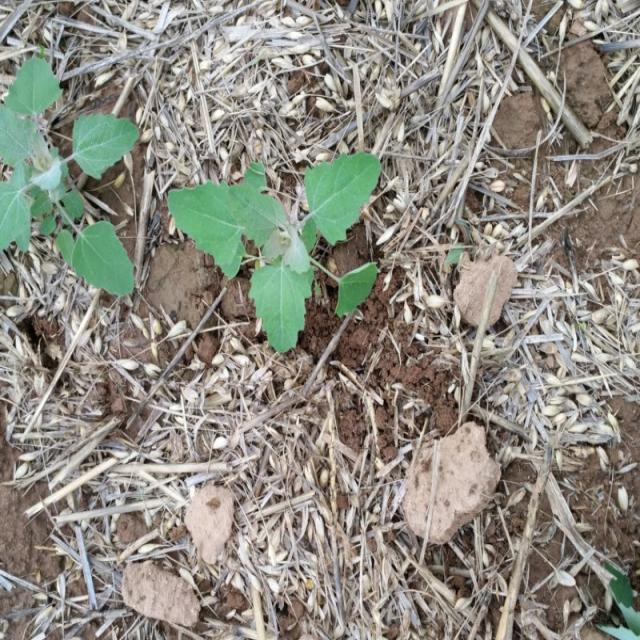goosefoots: (168, 137, 391, 346), (0, 39, 158, 319)
